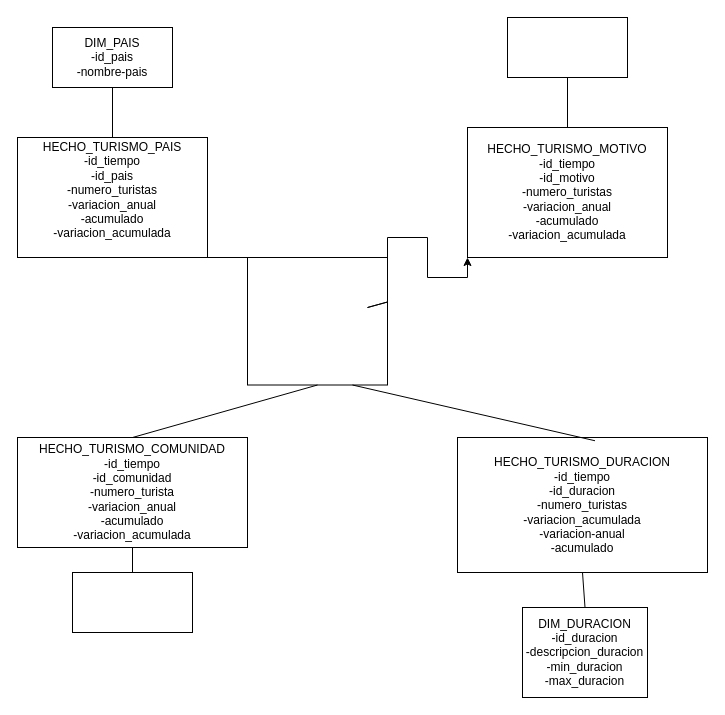
This 725x715 diagram has some shape labels left out. Here are the shapes that lost their labels. From the top down, the centre of each, then its label:
At point 567,47: "DIM_MOTIVO -id_motivo -nombre_motivo".
At point 317,320: "TIEMPO -id_tiempo -año -mes -trimestre -descripcion_mes -texto_fecha".
At point 132,602: "DIM_COMUNIDAD -id_comunidad -nombre_comunidad".
